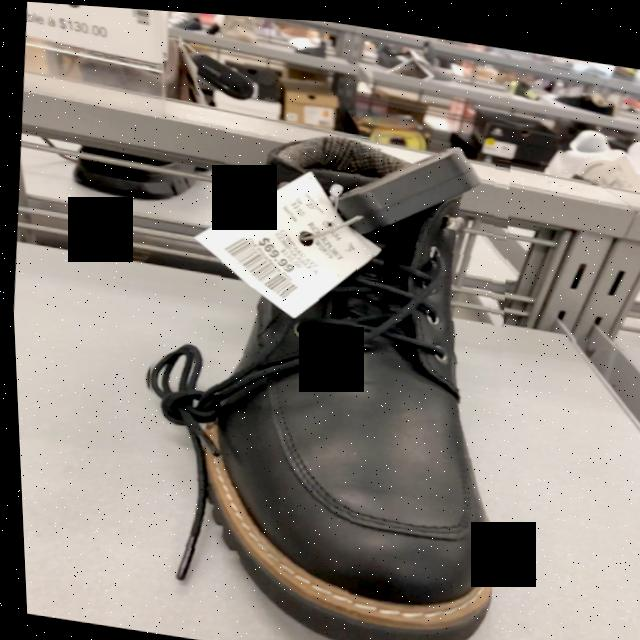shoe: (145, 131, 489, 640)
